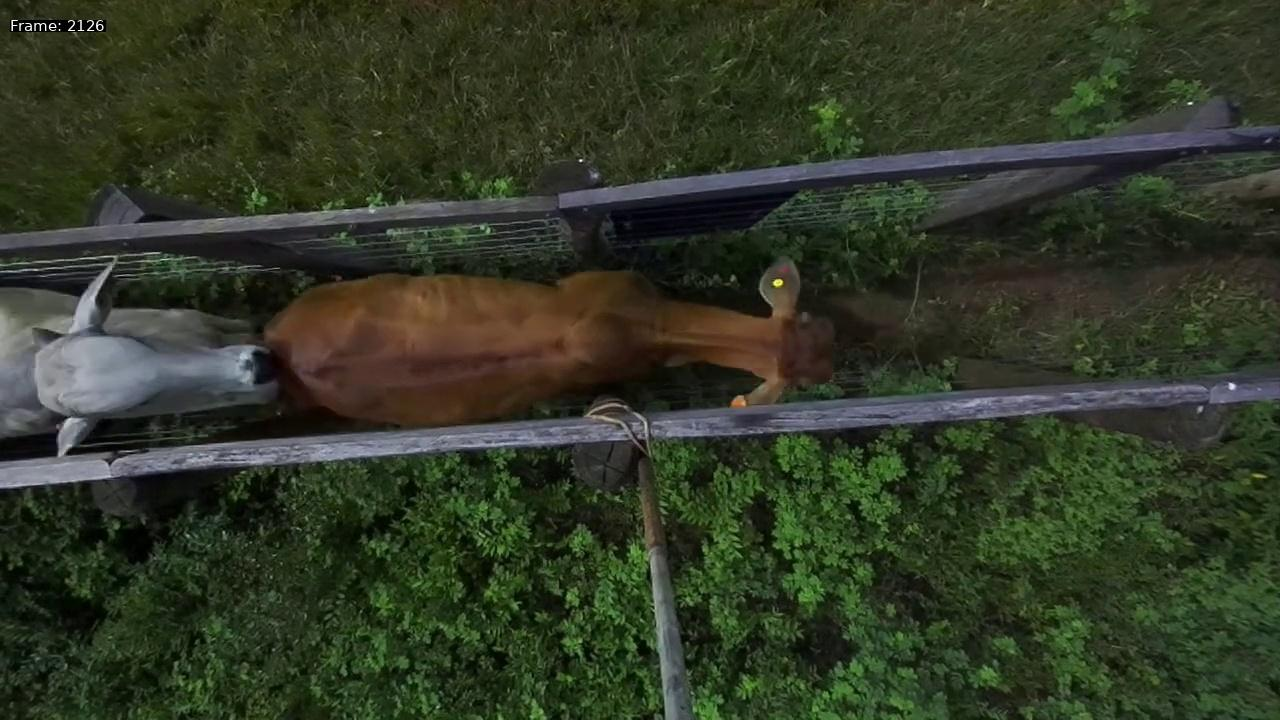cattle: (260, 234, 863, 433)
